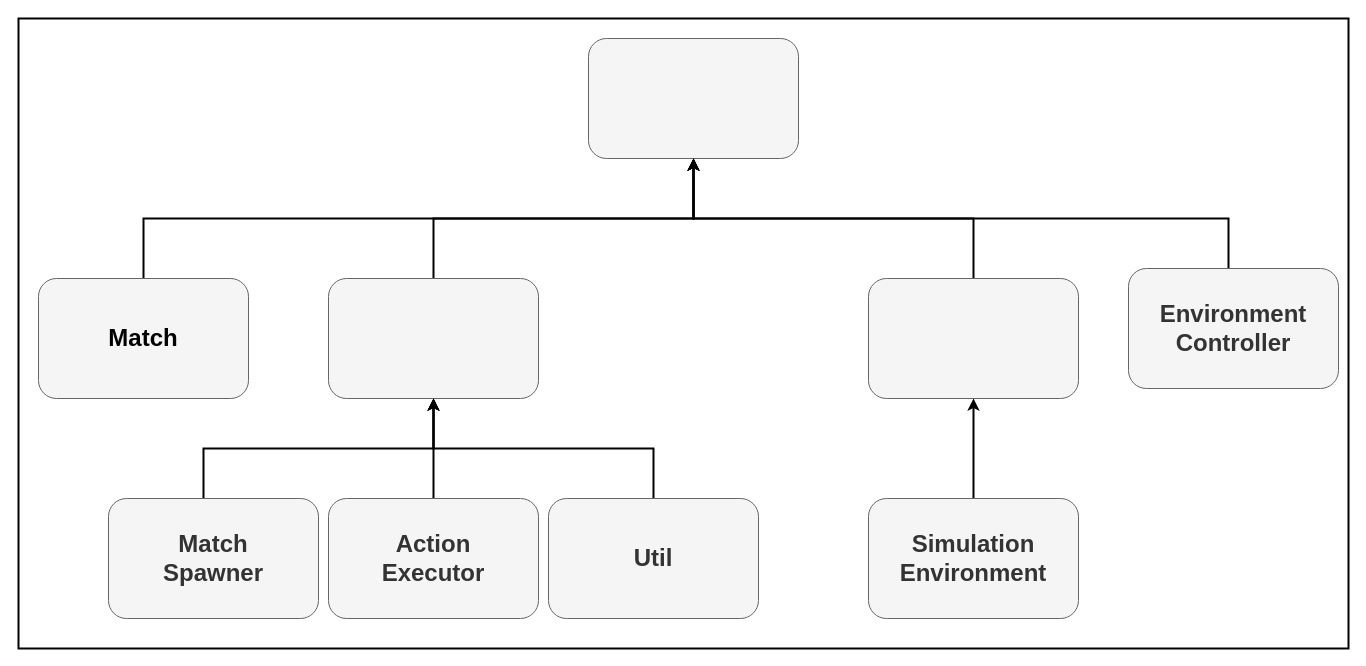
This 1366x666 diagram has some shape labels left out. Each missing label, with the centre of its shape:
"Agent Scenario" goes at point 433,338.
"Game Scenario" goes at point 973,338.
"Simulation" goes at point 693,98.
